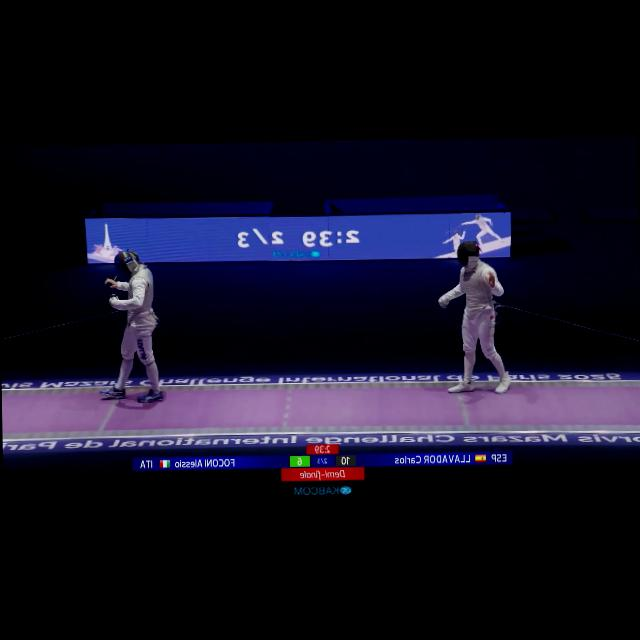blade: (108, 275, 119, 304)
